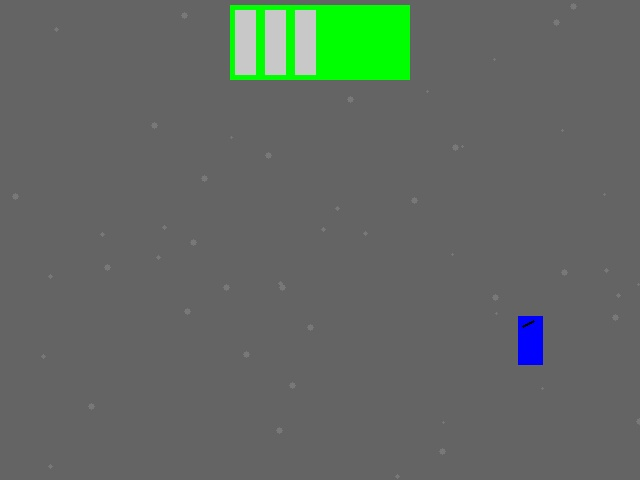bus: (230, 5, 409, 79)
motorcycle: (518, 316, 542, 364)
